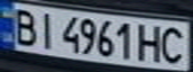1: (112, 19, 136, 60)
4: (57, 12, 81, 53)
6: (93, 18, 118, 58)
9: (75, 16, 100, 55)
B: (6, 6, 42, 47)
C: (157, 24, 190, 64)
H: (136, 20, 166, 62)
I: (33, 9, 60, 50)
